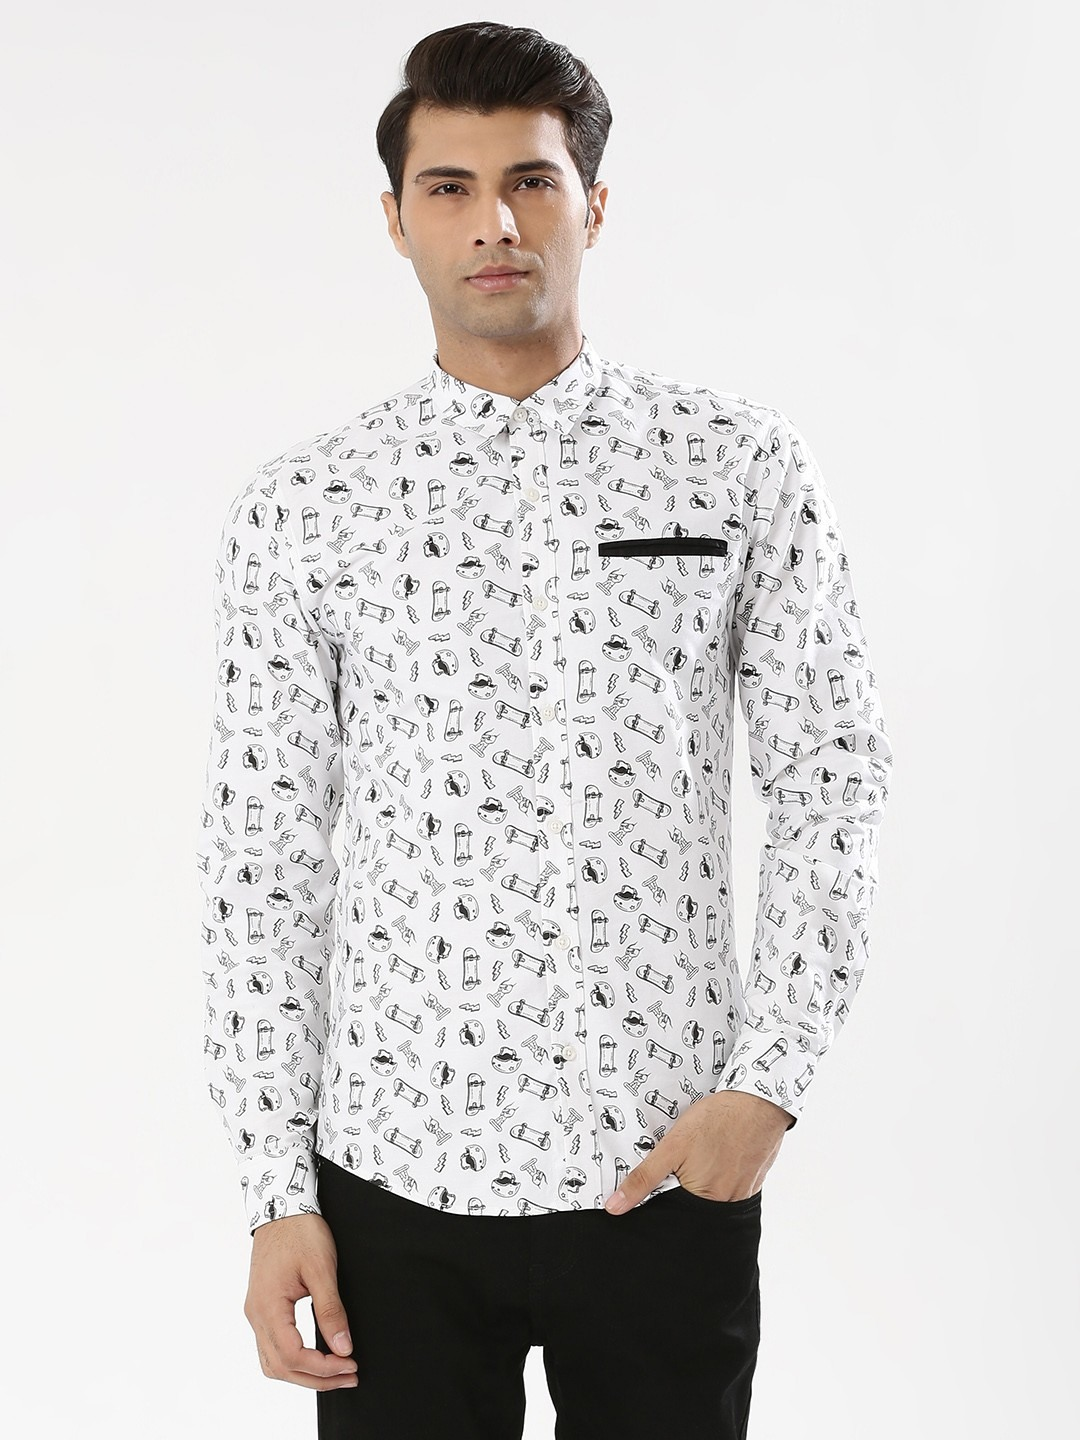Shirt: (146, 334, 945, 1253)
